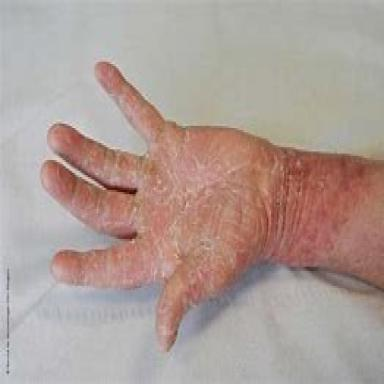eczema: (41, 62, 278, 350)
